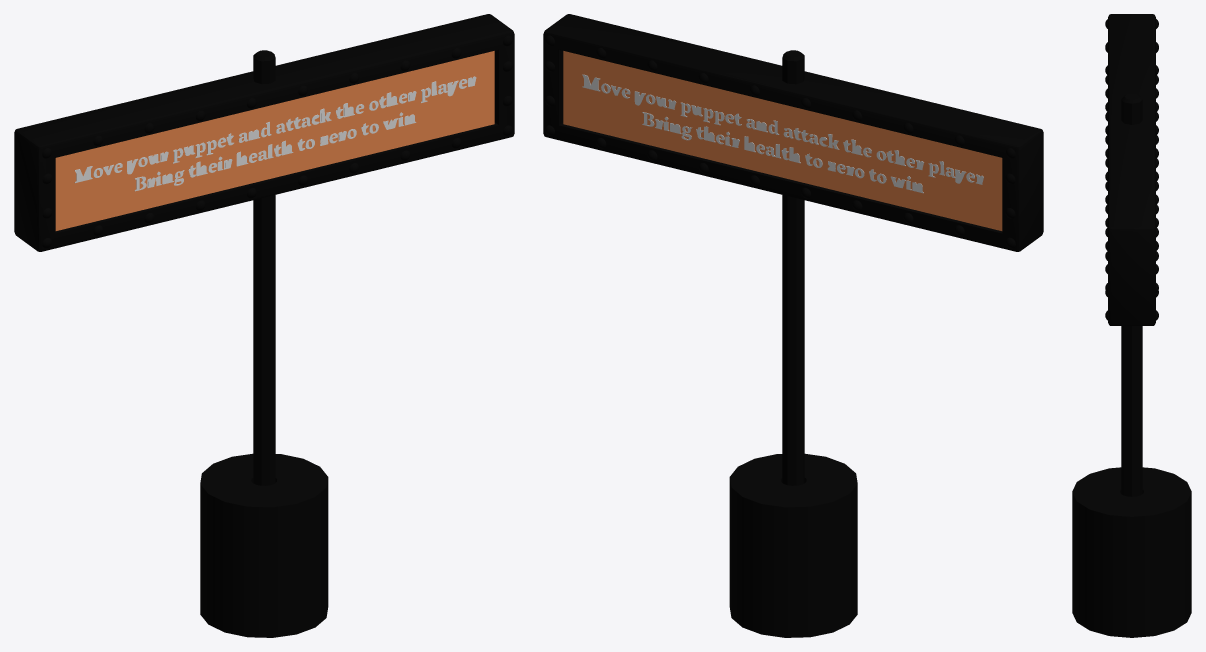
3 renders of one model, left to right at view 1: azimuth 30°, elevation 25°; view 2: azimuth 150°, elevation 25°; view 3: azimuth 270°, elevation 25°, orthographic. The views are drawn at different scales.
Parts seen in each view (by area): view 1: inner, outer, base, rod, tex2_svg, bullets; view 2: inner, outer, base, rod, tex2_svg, bullets; view 3: base, inner, rod, bullets.
Boxes of the visible parts, bbox=[...] form: inner: bbox=[14, 14, 514, 251]; outer: bbox=[55, 51, 494, 230]; base: bbox=[200, 453, 328, 637]; rod: bbox=[253, 50, 275, 485]; tex2_svg: bbox=[74, 76, 476, 191]; bullets: bbox=[42, 35, 512, 248]; inner: bbox=[543, 14, 1043, 251]; outer: bbox=[563, 51, 1002, 230]; base: bbox=[729, 453, 857, 637]; rod: bbox=[782, 50, 804, 485]; tex2_svg: bbox=[582, 74, 983, 193]; bullets: bbox=[545, 35, 1015, 248]; base: bbox=[1072, 467, 1191, 637]; inner: bbox=[1108, 14, 1155, 325]; rod: bbox=[1121, 93, 1142, 496]; bullets: bbox=[1105, 19, 1158, 320].
Bounding box in the file's own units: 508 × 570 × 119.
